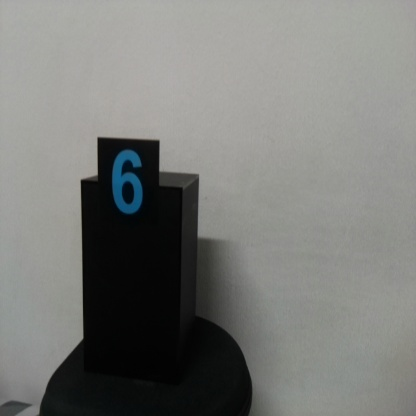id_6: (97, 137, 158, 246)
